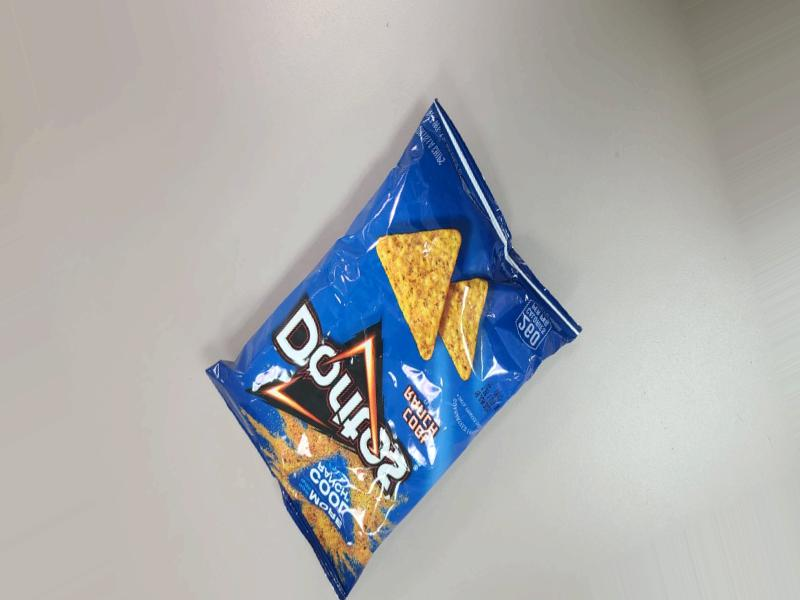doritos: (209, 108, 593, 600)
